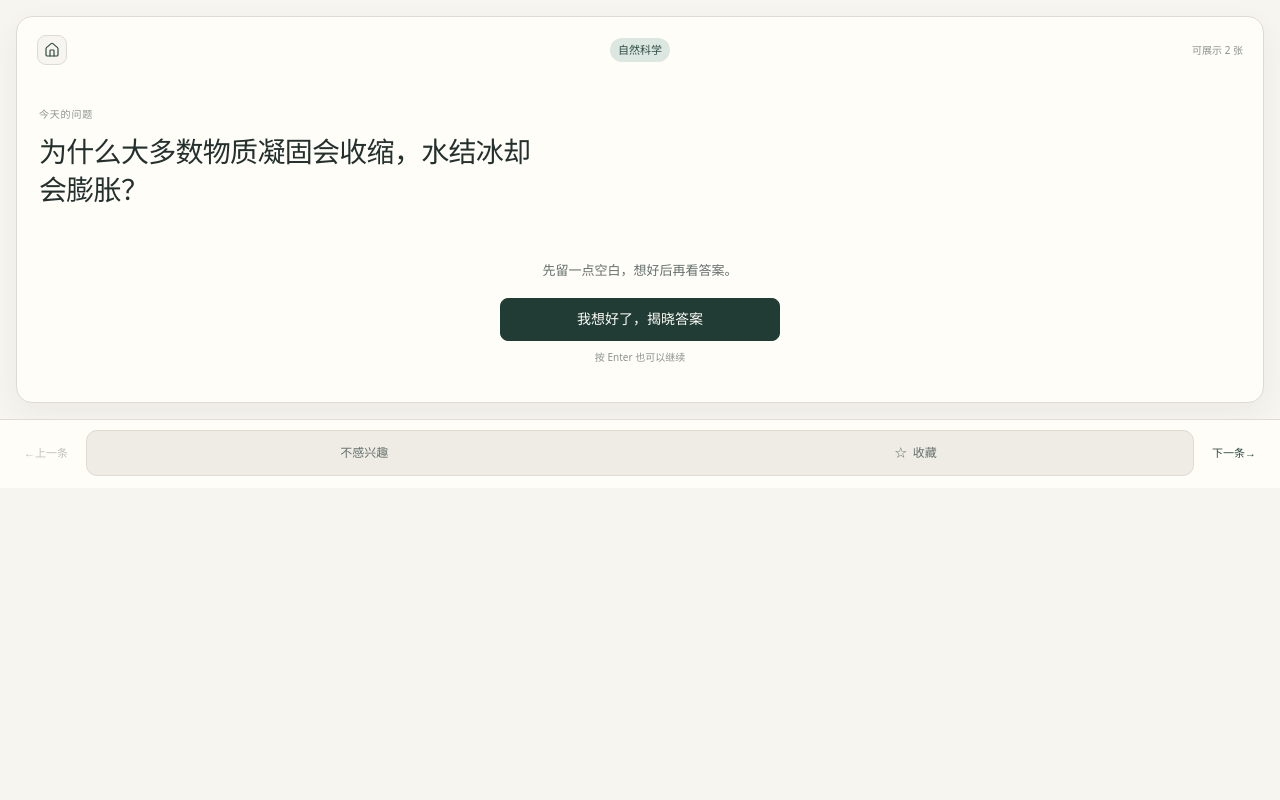
Test: KnowledgeCardView › keeps a failed feed removal confirmation open so the user can retry
The image size is (1280, 800).
Click the button "不感兴趣": (364, 453) [90,434,638,472]
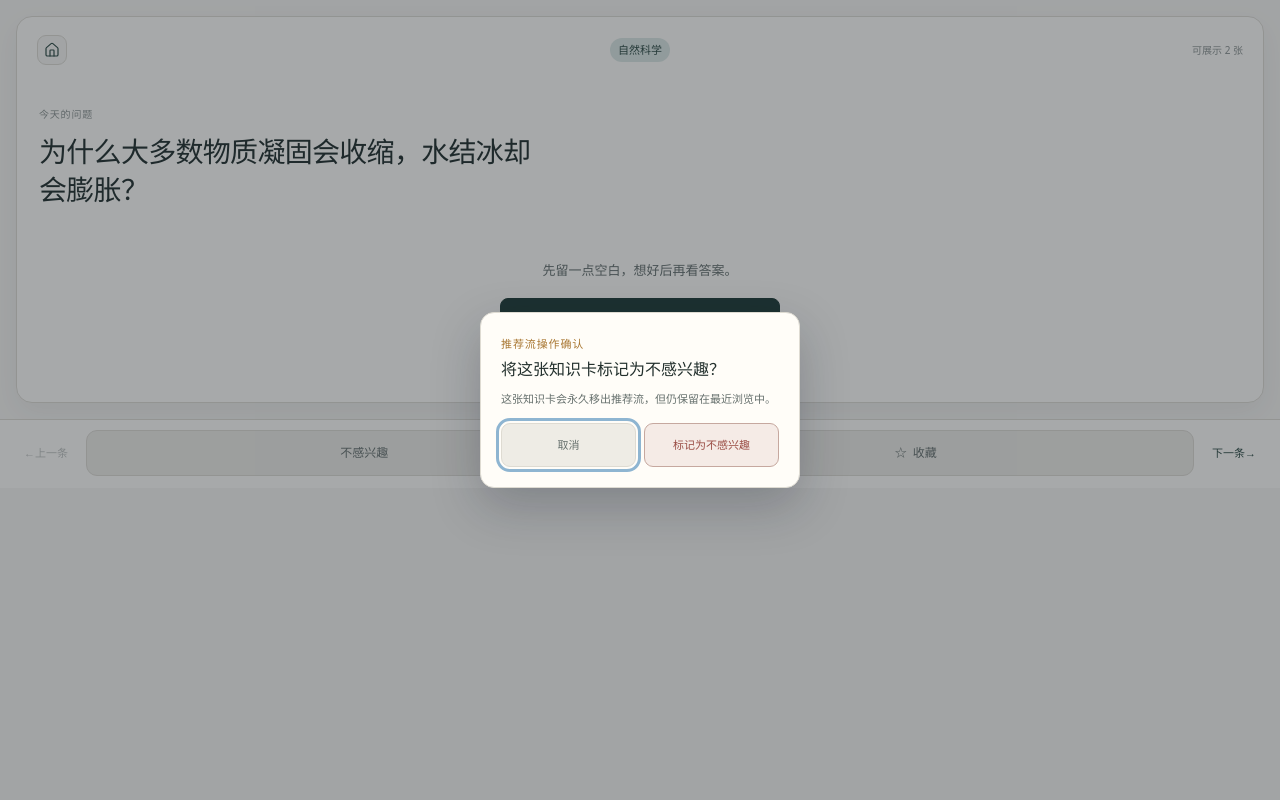
Click the button "标记为不感兴趣": (712, 445) [644,423,779,467]
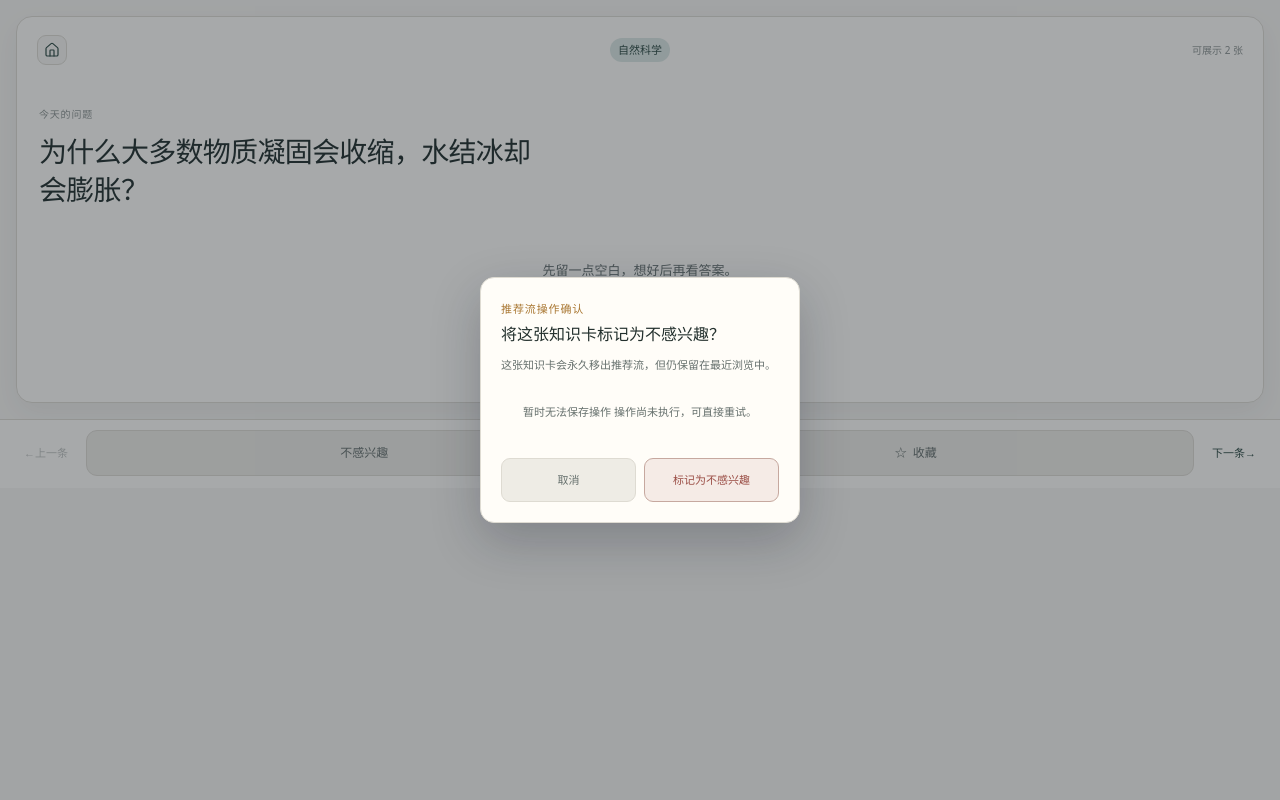
Result: the dialog "将这张知识卡标记为不感兴趣？" is shown at [480,277,800,523]
Result: the message reads "暂时无法保存操作 操作尚未执行，可直接重试。" at [523,404,757,419]
Click the button "标记为不感兴趣": (712, 480) [644,458,779,502]
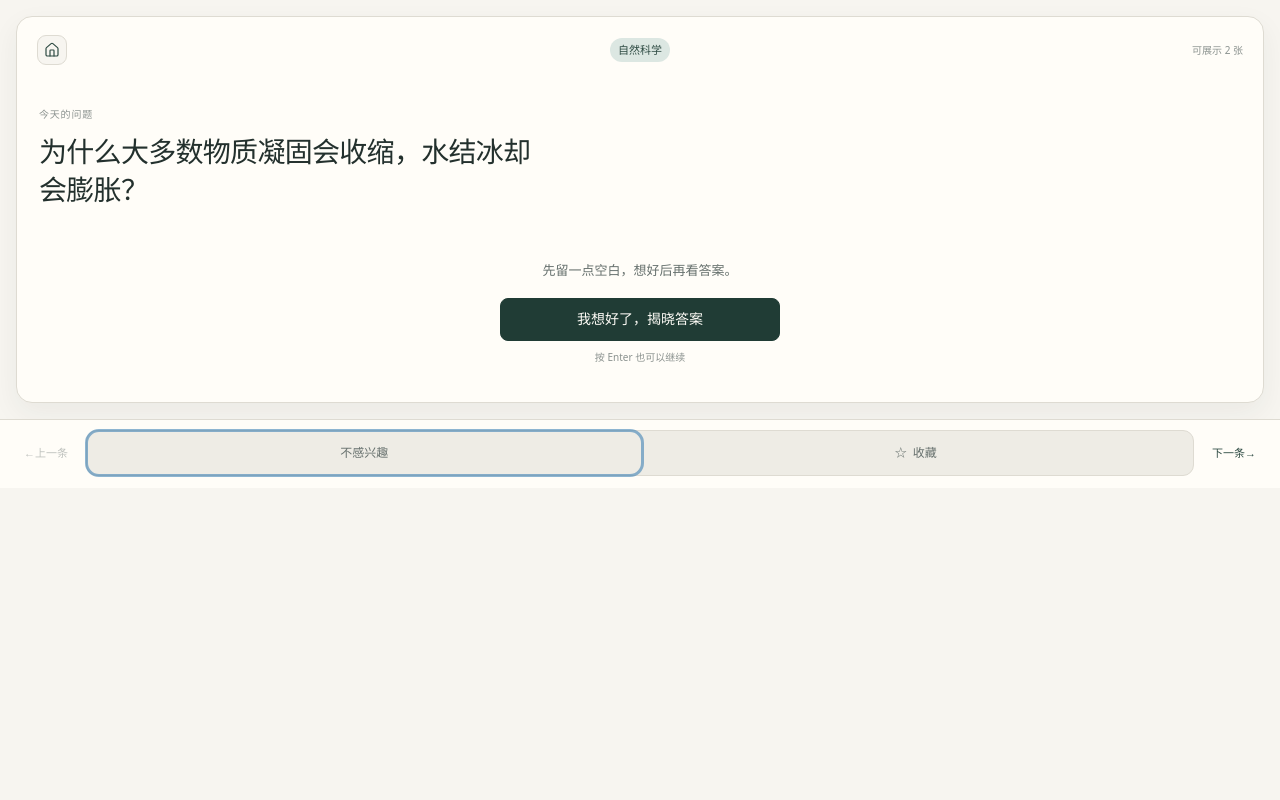
Result: the heading "将这张知识卡标记为不感兴趣？" is gone
